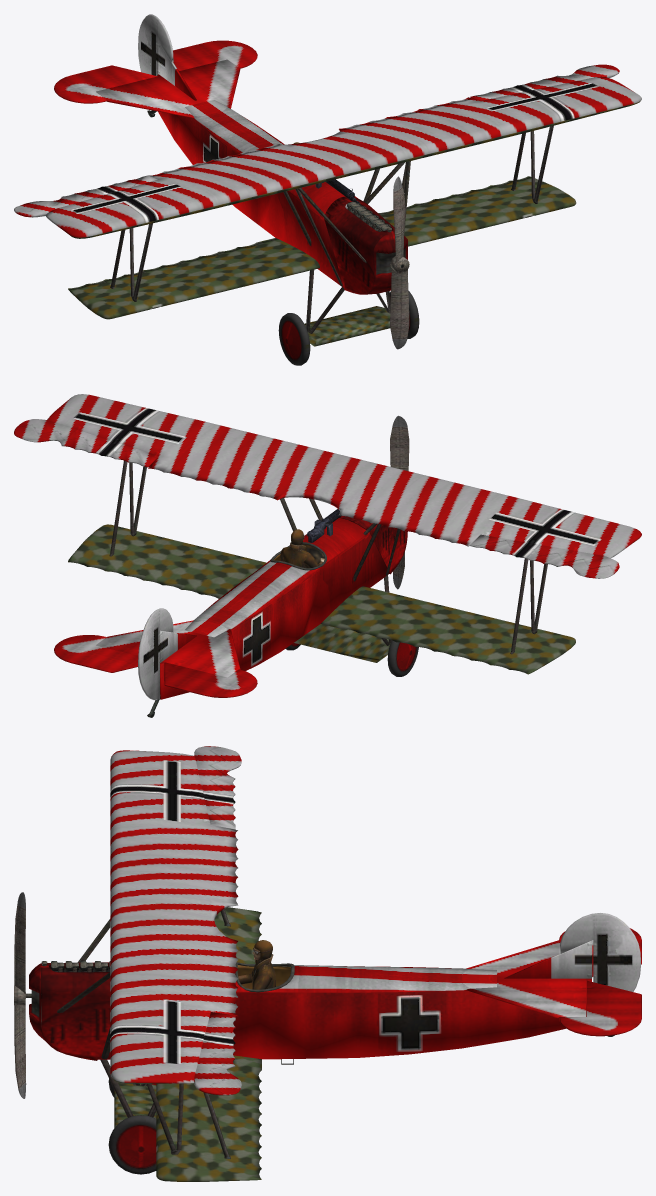
File: fokker_d7.glb
3 renders of one model, top to bottom at view 1: azimuth 30°, elevation 25°; view 2: azimuth 150°, elevation 25°; view 3: azimuth 270°, elevation 25°, orthographic. The views are drawn at different scales.
Visible parts, largest first — view 1: fokker_d7; view 2: fokker_d7; view 3: fokker_d7.
Boxes of the visible parts, x1=… form: fokker_d7: x1=14, y1=14, x2=641, y2=365; fokker_d7: x1=14, y1=394, x2=641, y2=717; fokker_d7: x1=14, y1=746, x2=641, y2=1181.
Bounding box in the file's own units: 1 × 0.336 × 0.7647.
3 materials, 3 textured.
